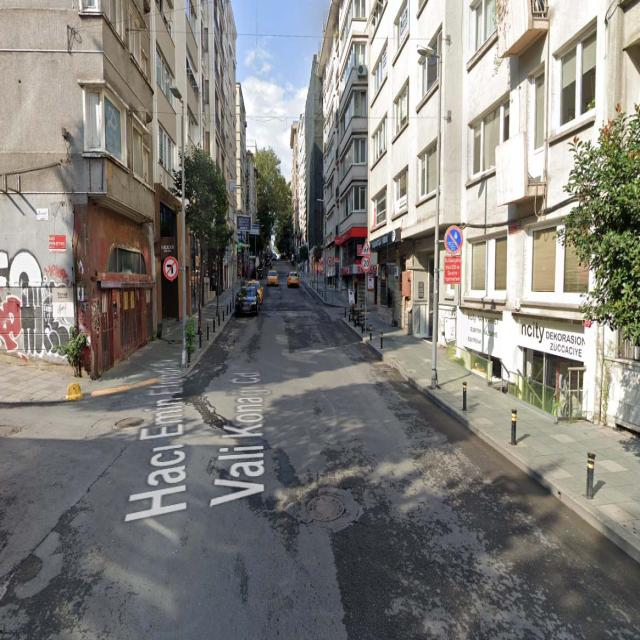20: (362, 256, 371, 270)
parkyasak: (445, 224, 463, 256)
soladonulmez: (164, 256, 178, 279)
